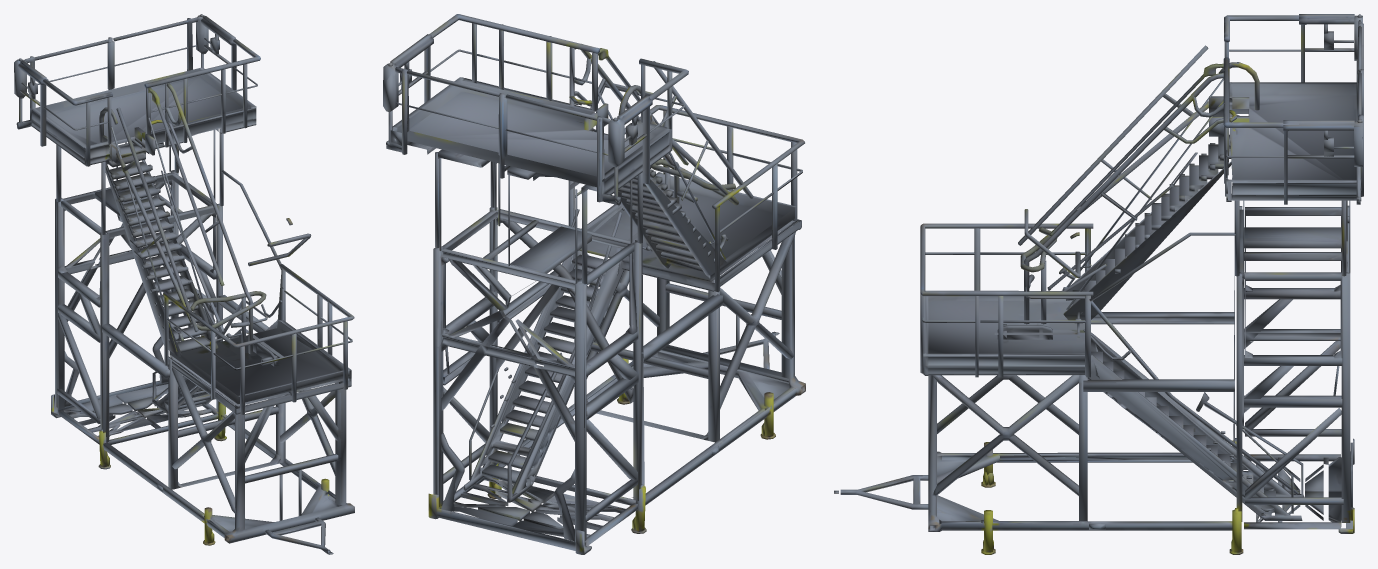
3 views of the same model, side by side, from view 1: azimuth 30°, elevation 25°; view 2: azimuth 150°, elevation 25°; view 3: azimuth 270°, elevation 25° (orthographic). The views are drawn at different scales.
Visible parts, largest first — view 1: texture_pbr_20250901; view 2: texture_pbr_20250901; view 3: texture_pbr_20250901.
Boxes of the visible parts, x1,y1,x2,y2 form: texture_pbr_20250901: (14,14,354,554); texture_pbr_20250901: (383,14,805,554); texture_pbr_20250901: (834,14,1363,554).
Bounding box in the file's own units: 0.9426 × 1.78 × 1.9.
1 material, 1 textured.
